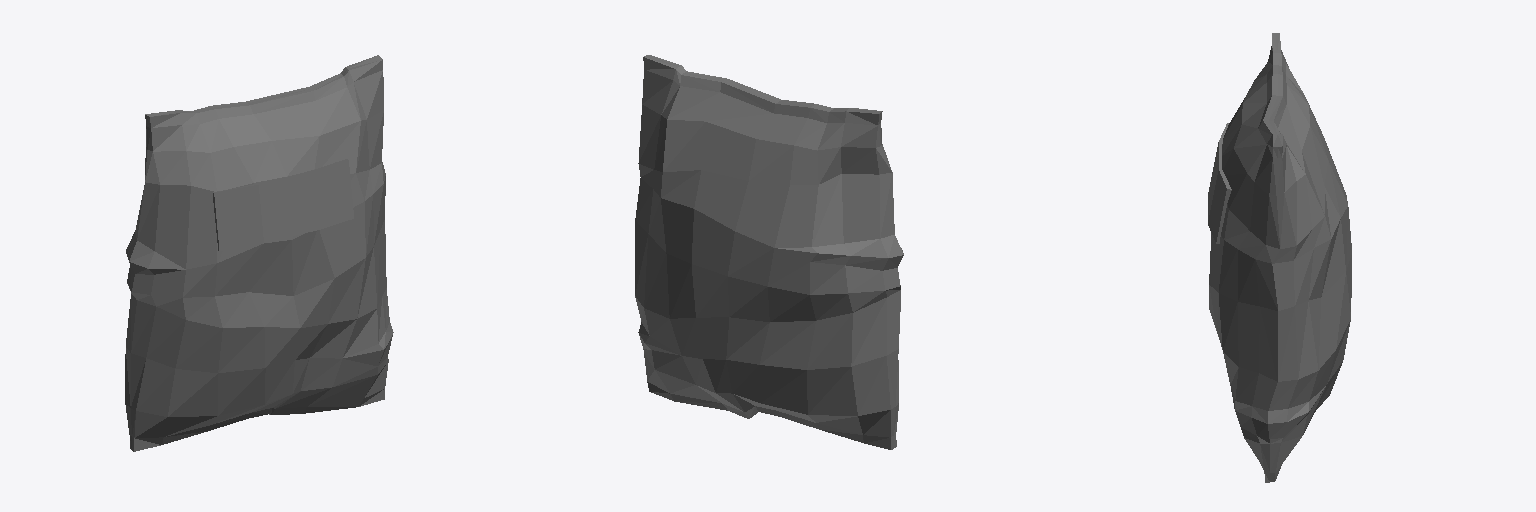
Rendered from fertiliser_GEO.obj.
3 renders of one model, left to right at view 1: azimuth 30°, elevation 25°; view 2: azimuth 150°, elevation 25°; view 3: azimuth 270°, elevation 25°, orthographic.
Parts seen in each view (by area): view 1: fertiliser_bag_GEO, fertiliser_label_GEO; view 2: fertiliser_bag_GEO; view 3: fertiliser_bag_GEO, fertiliser_label_GEO.
Part boxes in pixels (x1,y1,x2,y2): fertiliser_bag_GEO: (125,55,393,451); fertiliser_label_GEO: (213,159,353,250); fertiliser_bag_GEO: (635,55,903,449); fertiliser_bag_GEO: (1209,33,1351,482); fertiliser_label_GEO: (1208,123,1231,243).
Bounding box in the file's own units: 16.39 × 20.23 × 7.81.